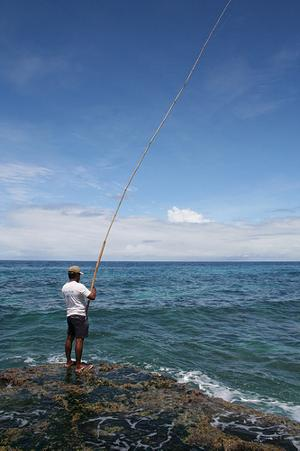person: (61, 265, 96, 375)
